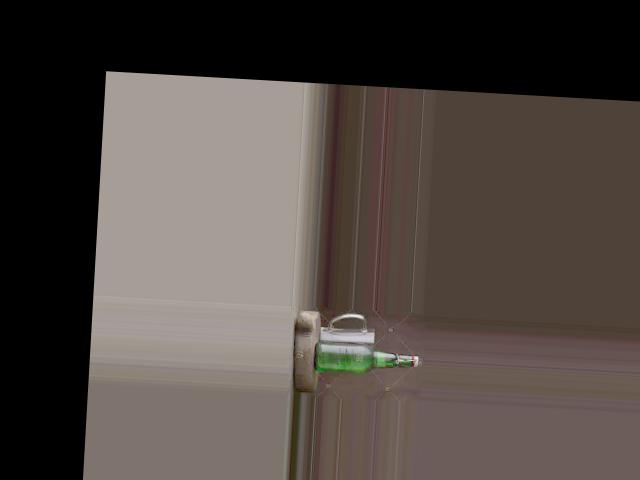beer: (313, 341, 419, 376)
